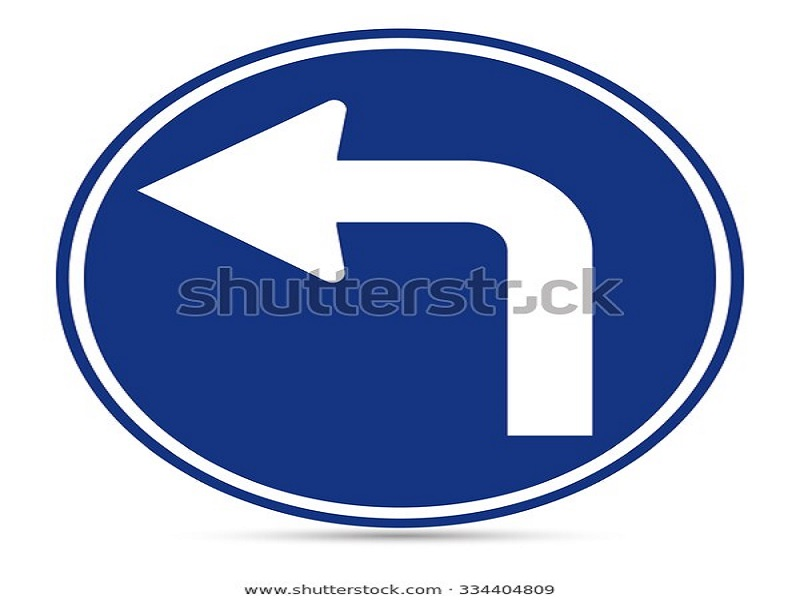solaDon: (132, 95, 617, 439)
